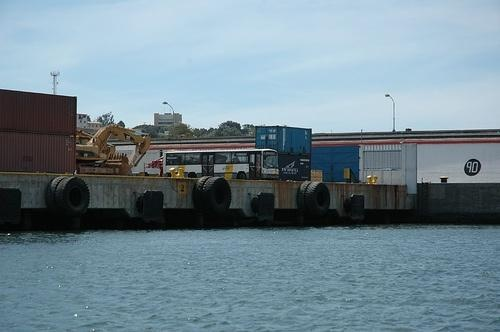bus: (164, 147, 281, 180)
